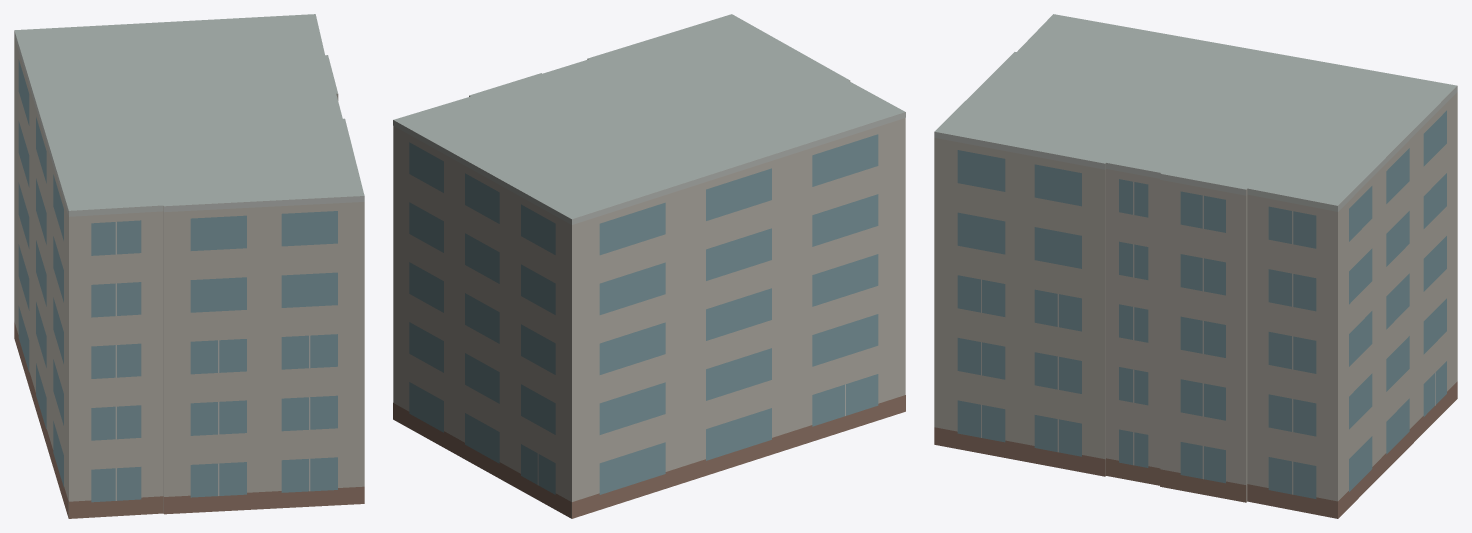
Rendered from survey-upis-32669509.glb.
3 renders of one model, left to right at view 1: azimuth 30°, elevation 25°; view 2: azimuth 150°, elevation 25°; view 3: azimuth 270°, elevation 25°, orthographic. The views are drawn at different scales.
Parts seen in each view (by area): view 1: survey-upis-32669509.tmp; view 2: survey-upis-32669509.tmp; view 3: survey-upis-32669509.tmp.
Boxes of the visible parts, left/top/right/bottom form: survey-upis-32669509.tmp: left=14, top=14, right=364, bottom=518; survey-upis-32669509.tmp: left=393, top=14, right=905, bottom=518; survey-upis-32669509.tmp: left=934, top=14, right=1457, bottom=518.
Size of the model in its own units: 16.58 by 12.6 by 19.1.
